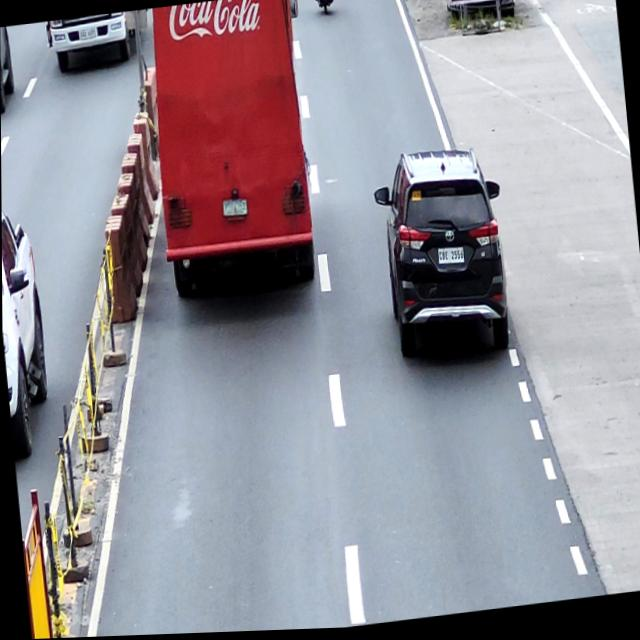Car: (369, 144, 514, 368), (1, 201, 55, 459)
License-Plate: (437, 250, 465, 268), (221, 199, 247, 218)
Truck: (142, 0, 324, 305)
